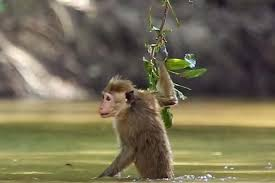monkey: (88, 31, 191, 183)
